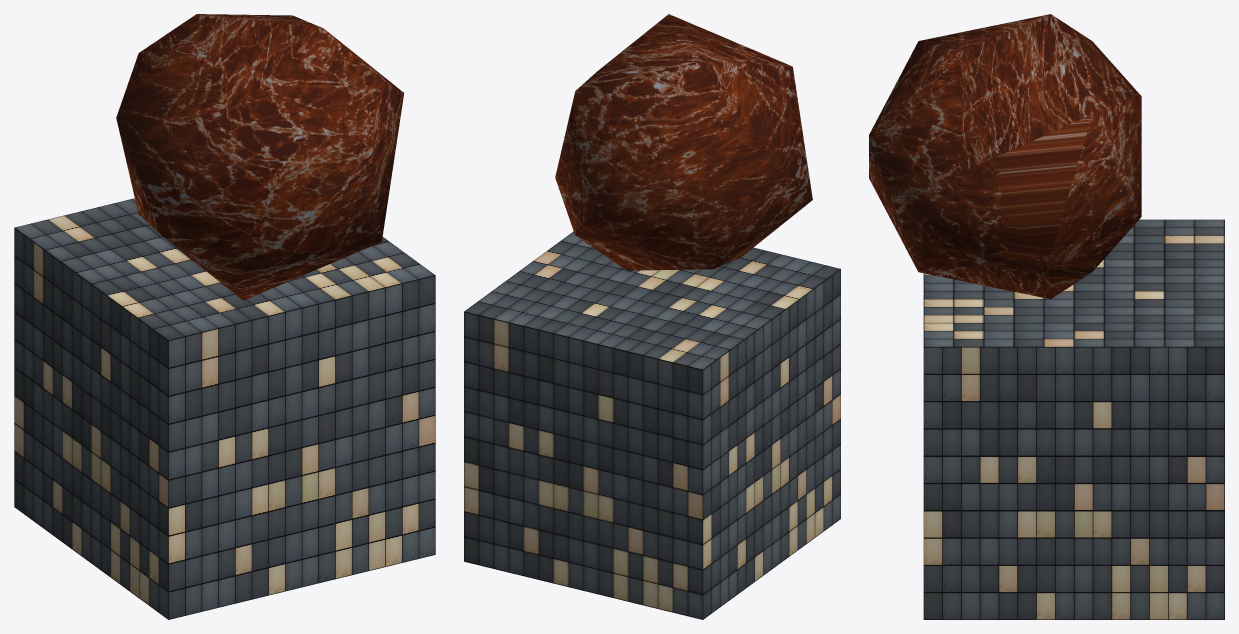
File: abstract-model-4.glb
3 renders of one model, left to right at view 1: azimuth 30°, elevation 25°; view 2: azimuth 150°, elevation 25°; view 3: azimuth 270°, elevation 25°, orthographic. The views are drawn at different scales.
Visible parts, largest first — view 1: Box, Tetrahedron; view 2: Box, Tetrahedron; view 3: Box, Tetrahedron.
Part boxes in pixels (<box>): Box: <box>14,198,435,619</box>; Tetrahedron: <box>116,14,404,300</box>; Box: <box>464,231,840,619</box>; Tetrahedron: <box>555,14,812,270</box>; Box: <box>923,219,1224,619</box>; Tetrahedron: <box>869,14,1141,299</box>.
Bounding box in the file's own units: 0.2 × 0.3833 × 0.2362.
2 materials, 2 textured.
